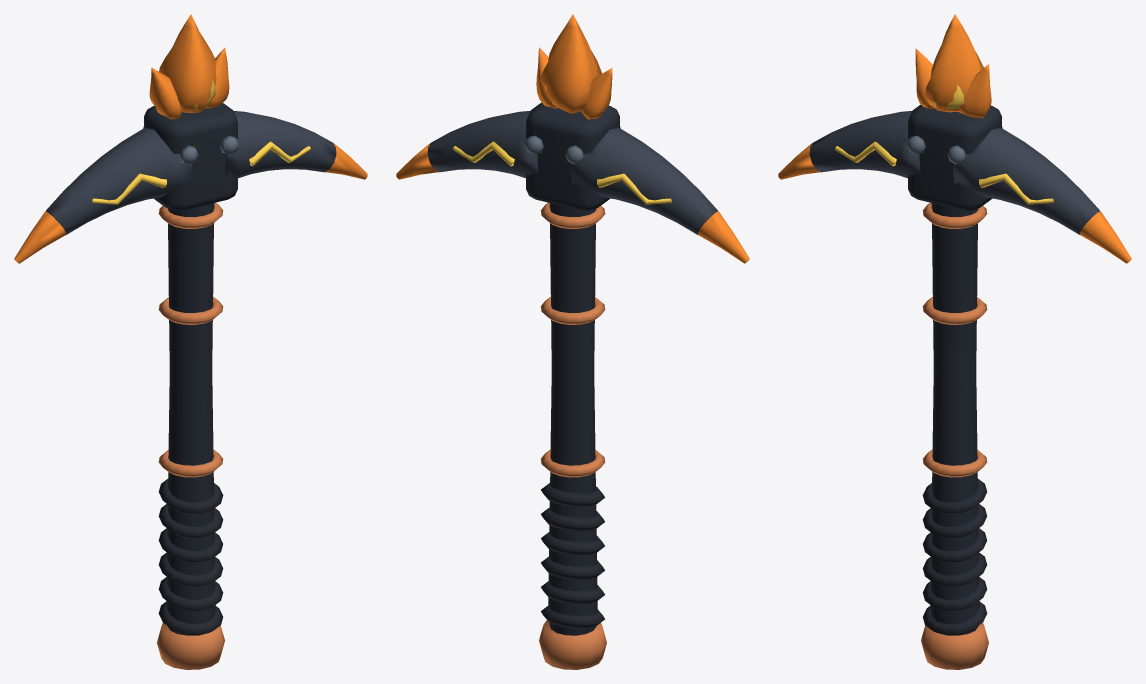
Rendered from Tool_T11.fbx.
The picture shows the model from 3 angles, left to right: view 1: azimuth 30°, elevation 25°; view 2: azimuth 150°, elevation 25°; view 3: azimuth 330°, elevation 25°; orthographic projection.
Visible parts, largest first — view 1: ToolT11Handle, ToolT11Head, ToolT11HeadGlow; view 2: ToolT11Handle, ToolT11Head, ToolT11HeadGlow; view 3: ToolT11Handle, ToolT11Head, ToolT11HeadGlow.
Boxes of the visible parts, bbox=[...] form: ToolT11Handle: bbox=[157, 202, 224, 669]; ToolT11Head: bbox=[46, 103, 336, 234]; ToolT11HeadGlow: bbox=[14, 14, 367, 263]; ToolT11Handle: bbox=[539, 202, 606, 669]; ToolT11Head: bbox=[427, 102, 717, 234]; ToolT11HeadGlow: bbox=[396, 14, 749, 263]; ToolT11Handle: bbox=[921, 202, 988, 669]; ToolT11Head: bbox=[809, 104, 1099, 234]; ToolT11HeadGlow: bbox=[778, 14, 1131, 263].
Size of the model in its own units: 279 by 487 by 62.
